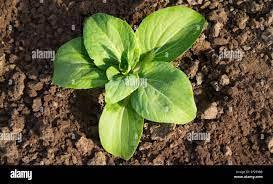Healthy-Pechay: (55, 5, 208, 148)
